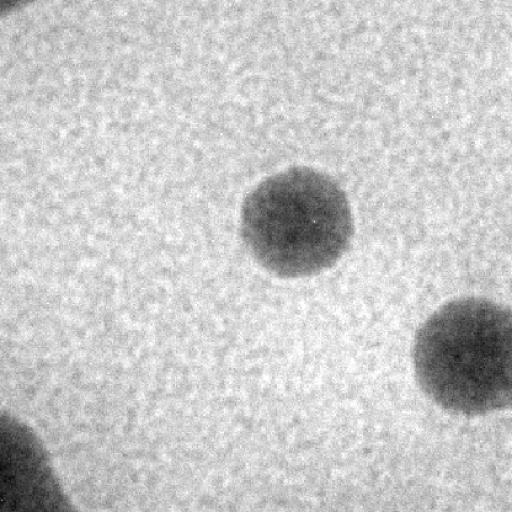Nanoparticles: (244, 165, 356, 281), (410, 291, 512, 418), (0, 409, 80, 512)
